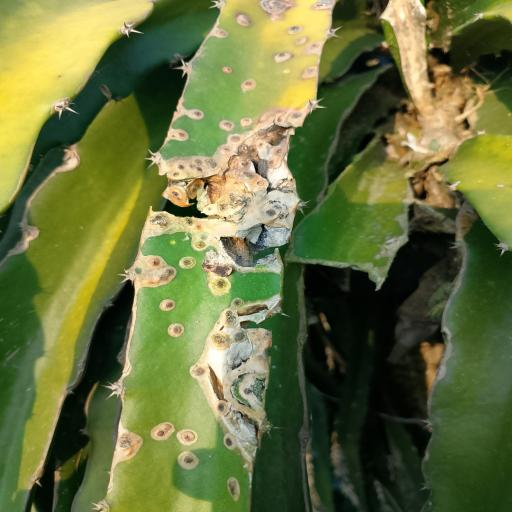stemcanker: (269, 342, 283, 376), (242, 78, 265, 92), (276, 64, 294, 81), (39, 74, 75, 82), (487, 181, 512, 192), (212, 28, 233, 40), (267, 53, 295, 62), (175, 128, 190, 143), (242, 113, 258, 127), (190, 319, 207, 332), (226, 304, 236, 326), (306, 41, 322, 54), (222, 64, 237, 77), (296, 34, 312, 46), (166, 238, 182, 249), (272, 10, 284, 22), (219, 144, 231, 156), (192, 109, 204, 120), (193, 221, 206, 231), (169, 237, 179, 247)
